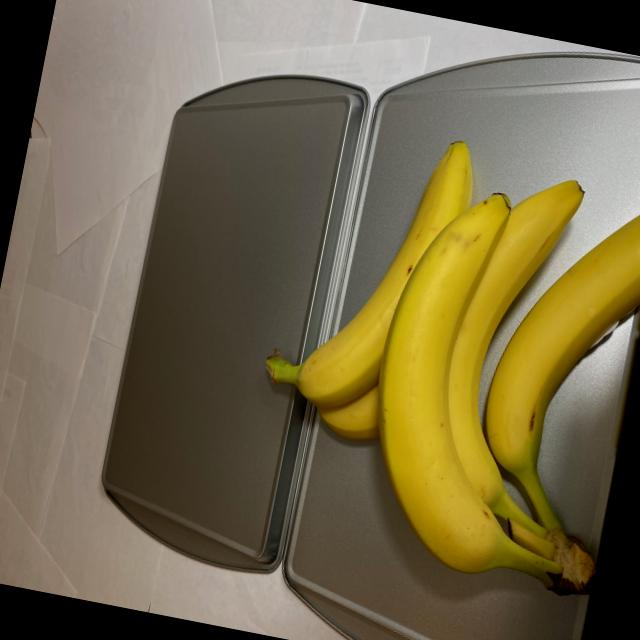banana: (230, 104, 640, 606)
